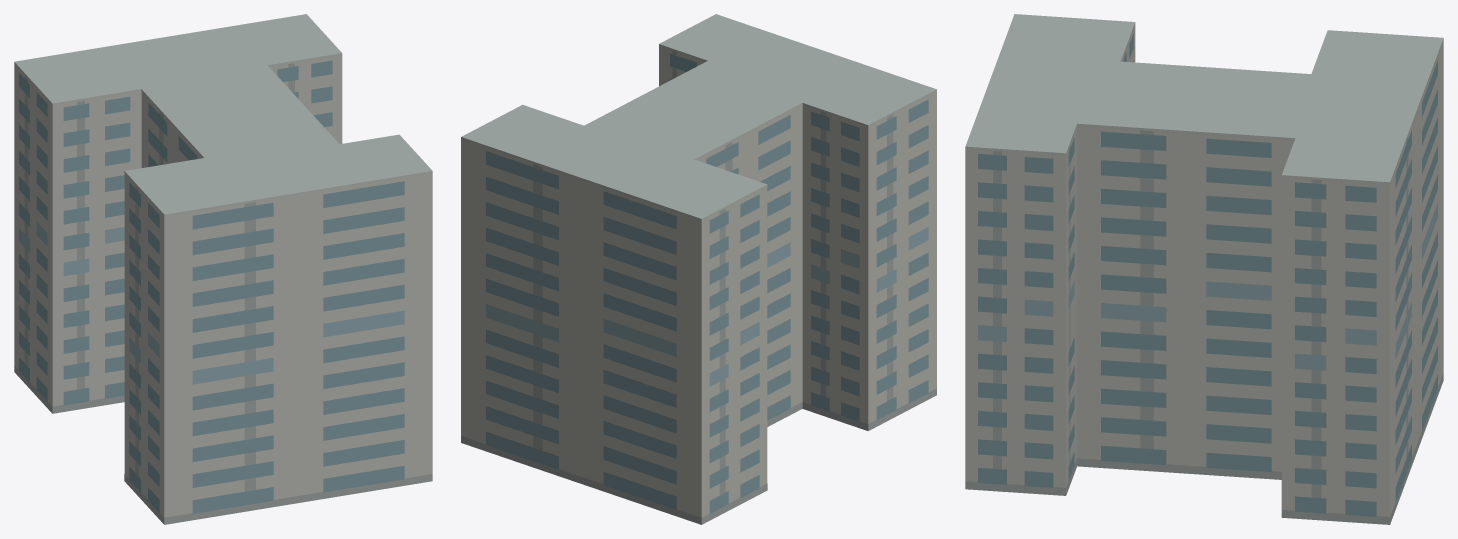
File: residential-84760f01-5d48-44ab-ad79-cce9a5426798.glb
3 views of the same model, side by side, from view 1: azimuth 30°, elevation 25°; view 2: azimuth 150°, elevation 25°; view 3: azimuth 270°, elevation 25° (orthographic). The views are drawn at different scales.
Visible parts, largest first — view 1: residential-84760f01-5d48-44ab-ad79-cce9a5426798.tmp; view 2: residential-84760f01-5d48-44ab-ad79-cce9a5426798.tmp; view 3: residential-84760f01-5d48-44ab-ad79-cce9a5426798.tmp.
Boxes of the visible parts, x1,y1,x2,y2 form: residential-84760f01-5d48-44ab-ad79-cce9a5426798.tmp: [14, 14, 432, 524]; residential-84760f01-5d48-44ab-ad79-cce9a5426798.tmp: [461, 14, 936, 524]; residential-84760f01-5d48-44ab-ad79-cce9a5426798.tmp: [965, 14, 1443, 524].
Size of the model in its own units: 35.82 by 34 by 43.03.
